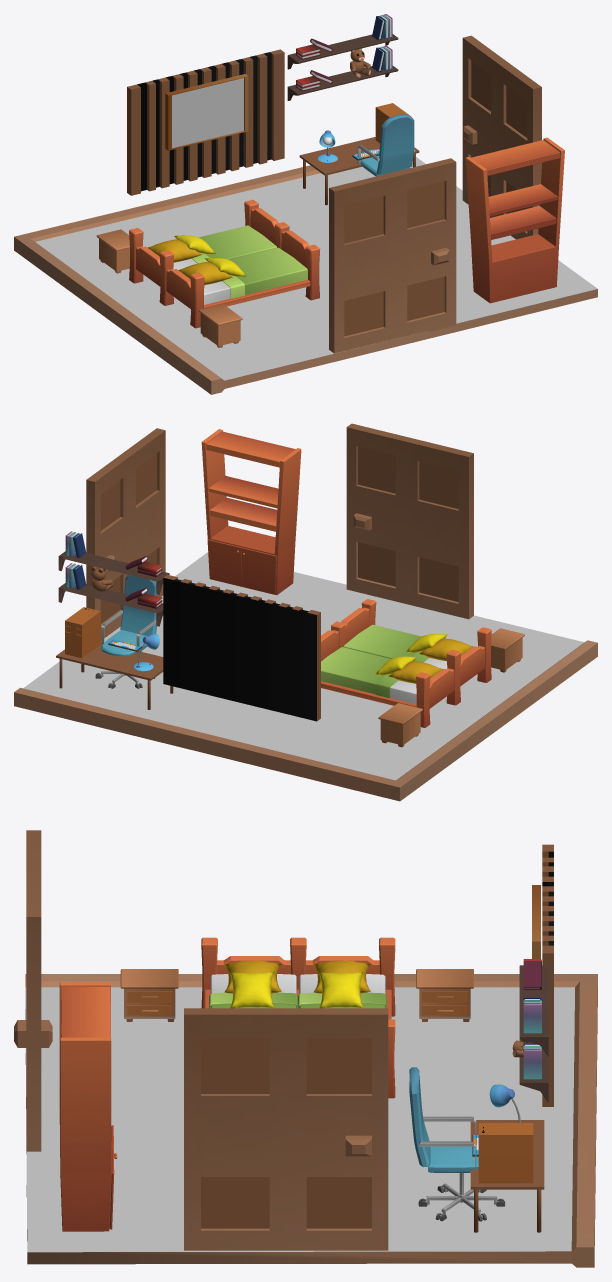
The model's file is DORMITORIO.fbx.
The picture shows the model from 3 angles, top to bottom: view 1: azimuth 30°, elevation 25°; view 2: azimuth 150°, elevation 25°; view 3: azimuth 270°, elevation 25°; orthographic projection. The views are drawn at different scales.
Parts seen in each view (by area): view 1: suelo2, puerta24, decor_paret1, cama1, mueble1, puerta16, mesa_ordena1, estanteria_3, estanteria2, mesita5, mesita4; view 2: suelo2, puerta24, decor_paret1, mueble1, cama1, puerta16, mesa_ordena1, estanteria_3, estanteria2, mesita4, mesita5; view 3: suelo2, puerta16, mueble1, cama1, mesa_ordena1, puerta24, decor_paret1, mesita5, mesita4, estanteria2, estanteria_3.
Boxes of the visible parts, x1,y1,x2,y2 form: suelo2: (14,157,597,394); puerta24: (329,158,456,353); decor_paret1: (127,49,284,195); cama1: (129,199,320,328); mueble1: (465,137,564,303); puerta16: (462,35,541,239); mesa_ordena1: (299,103,419,205); estanteria_3: (287,45,398,100); estanteria2: (287,14,398,69); mesita5: (198,304,242,347); mesita4: (96,229,129,273); suelo2: (14,552,597,801); puerta24: (346,423,473,619); decor_paret1: (163,574,320,721); mueble1: (201,429,301,594); cama1: (321,599,491,727); puerta16: (86,428,165,640); mesa_ordena1: (56,575,173,709); estanteria_3: (58,563,163,626); estanteria2: (58,531,169,594); mesita4: (378,703,422,747); mesita5: (491,628,524,672); suelo2: (25,974,597,1267); puerta16: (184,1008,388,1250); mueble1: (59,982,117,1231); cama1: (201,937,395,1098); mesa_ordena1: (409,1067,544,1232); puerta24: (14,830,52,1153); decor_paret1: (532,844,553,1106); mesita5: (120,969,178,1021); mesita4: (416,969,473,1021); estanteria2: (519,959,548,1056); estanteria_3: (512,1039,548,1102).
Bounding box in the file's own units: 836 × 354 × 742.
